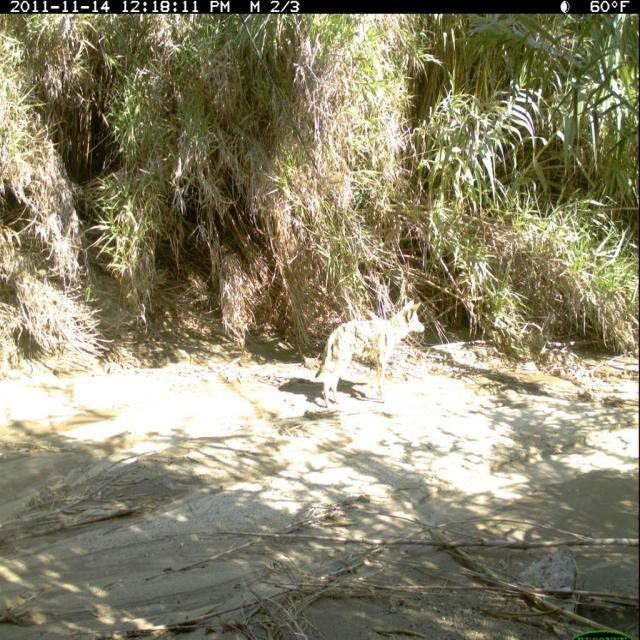coyote: (313, 297, 429, 409)
